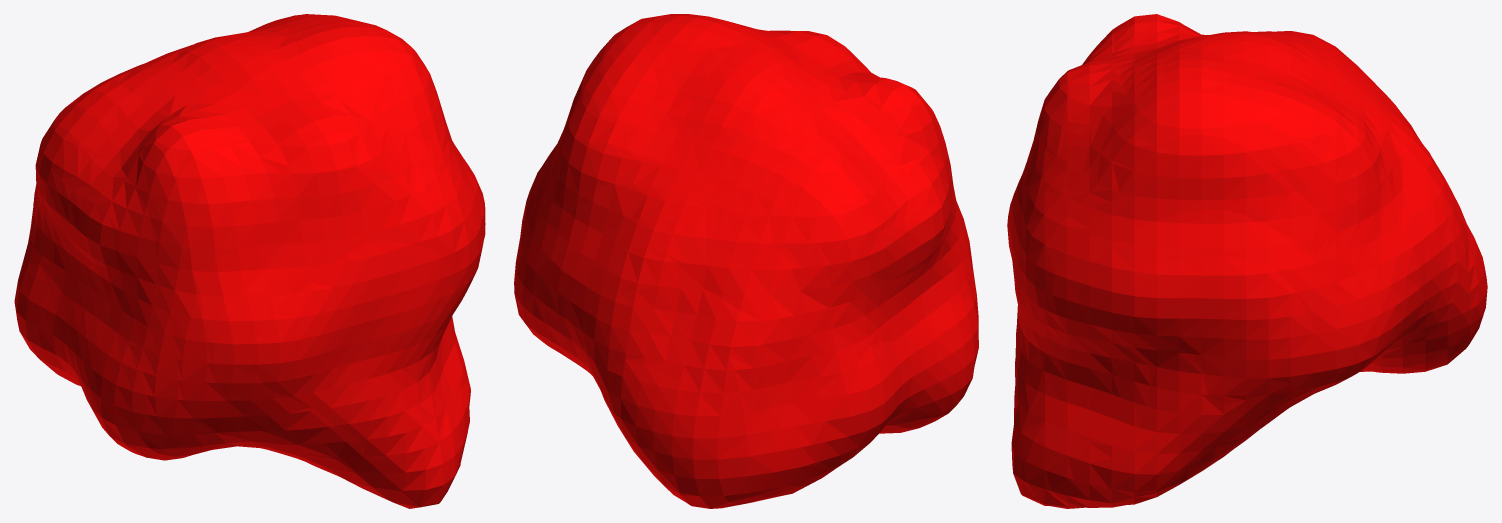
Rendered from srlB_coarse.dae.
3 views of the same model, side by side, from view 1: azimuth 30°, elevation 25°; view 2: azimuth 150°, elevation 25°; view 3: azimuth 270°, elevation 25° (orthographic).
Visible parts, largest first — view 1: srlB; view 2: srlB; view 3: srlB.
Boxes of the visible parts, x1,y1,x2,y2 form: srlB: (14,14,485,508); srlB: (514,14,978,508); srlB: (1007,14,1487,508).
Size of the model in its own units: 33.73 by 36.22 by 36.72.
